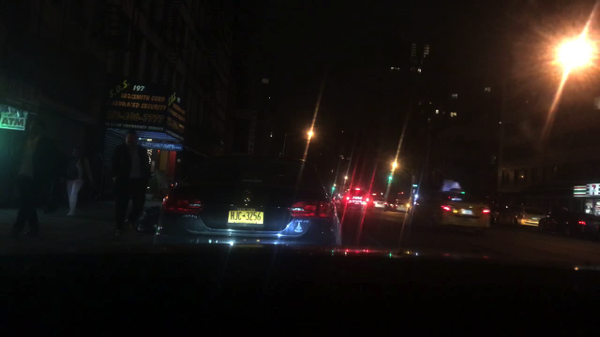car: (153, 151, 342, 247), (407, 178, 491, 234), (537, 211, 599, 237), (496, 204, 546, 229), (339, 187, 373, 213), (372, 193, 388, 211), (394, 198, 410, 212), (488, 208, 500, 223), (384, 199, 397, 211)
person: (8, 117, 59, 241), (110, 129, 154, 239), (58, 144, 96, 219), (40, 144, 68, 218)
traffic light: (330, 184, 335, 193), (388, 173, 393, 181)
